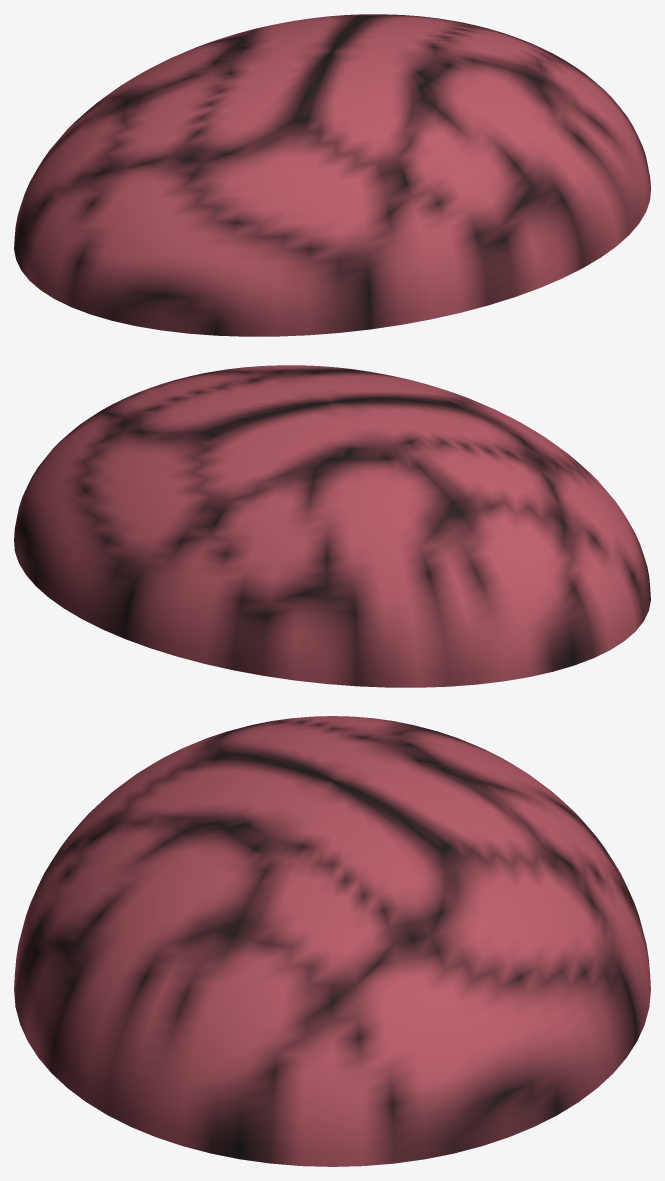
The model's file is rhodonite.glb.
The picture shows the model from 3 angles, top to bottom: view 1: azimuth 30°, elevation 25°; view 2: azimuth 150°, elevation 25°; view 3: azimuth 270°, elevation 25°; orthographic projection. The views are drawn at different scales.
Visible parts, largest first — view 1: rhodonite; view 2: rhodonite; view 3: rhodonite.
Boxes of the visible parts, x1,y1,x2,y2 form: rhodonite: [14, 14, 650, 336]; rhodonite: [14, 365, 650, 687]; rhodonite: [14, 716, 650, 1166].
Size of the model in its own units: 0.25 by 0.0688 by 0.19.
